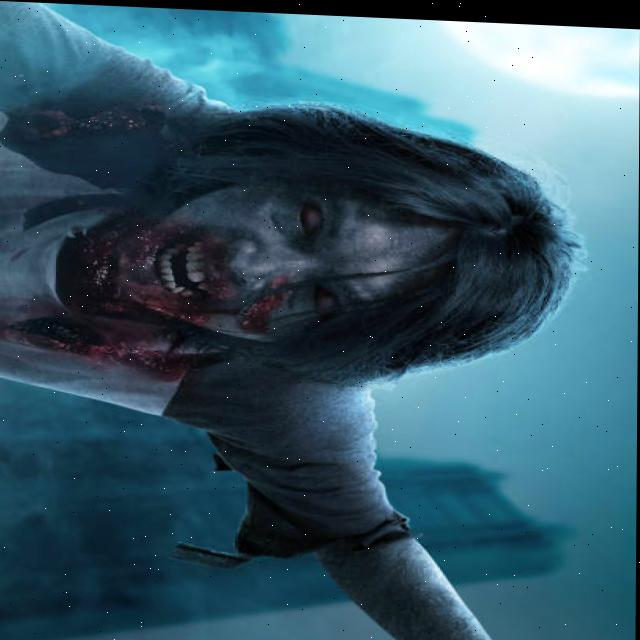Zombie: (127, 185, 437, 337)
